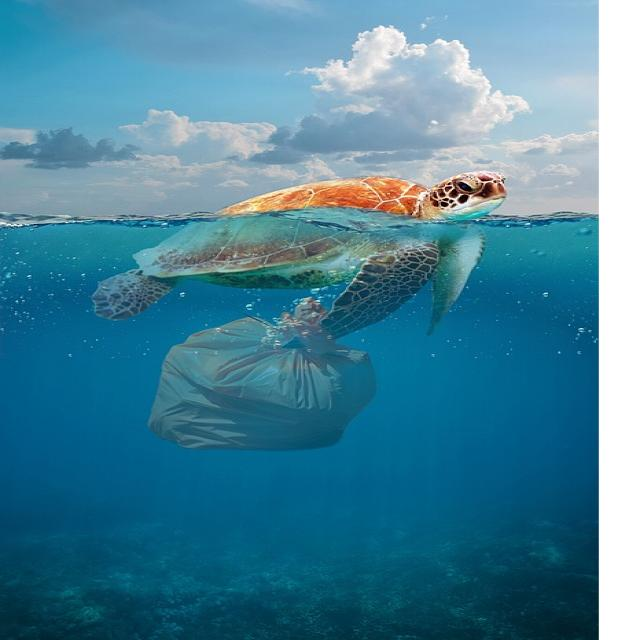Trash: (144, 288, 391, 457)
